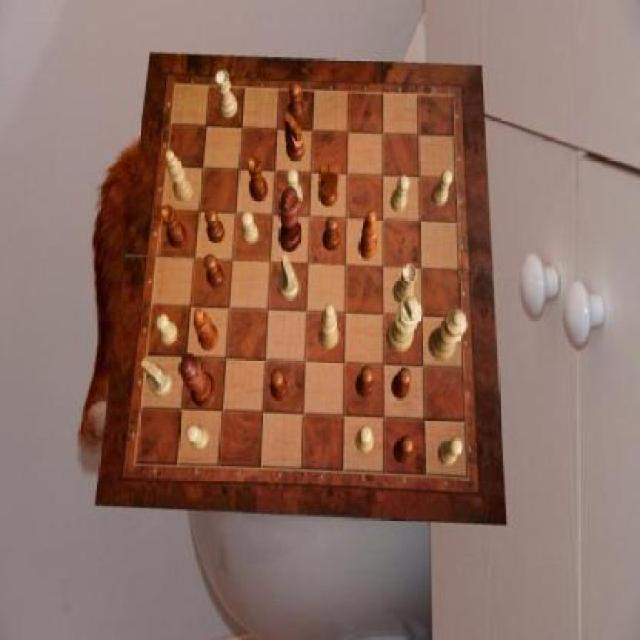bishop: (194, 308, 218, 350), (358, 211, 378, 260)
black-bishop: (278, 186, 302, 252)
black-king: (284, 114, 306, 161), (318, 164, 339, 208)
black-knight: (206, 209, 226, 244), (204, 254, 224, 288), (391, 368, 411, 400), (290, 83, 306, 122), (355, 366, 373, 399), (323, 217, 340, 251), (271, 369, 288, 402), (394, 437, 414, 465)
black-pawn: (179, 352, 216, 407)
black-queen: (160, 204, 188, 248), (248, 156, 268, 202)
black-rook: (164, 150, 193, 202), (320, 305, 340, 350)
white-bishop: (386, 295, 422, 353)
white-king: (140, 358, 173, 398), (278, 254, 300, 300)
white-knight: (432, 170, 453, 206), (155, 314, 178, 346), (391, 175, 410, 213), (439, 437, 463, 466), (286, 169, 303, 207), (186, 424, 210, 450), (242, 210, 259, 244), (355, 426, 373, 454)
white-pawn: (429, 309, 468, 362)
white-queen: (216, 71, 238, 118), (392, 264, 416, 304)
